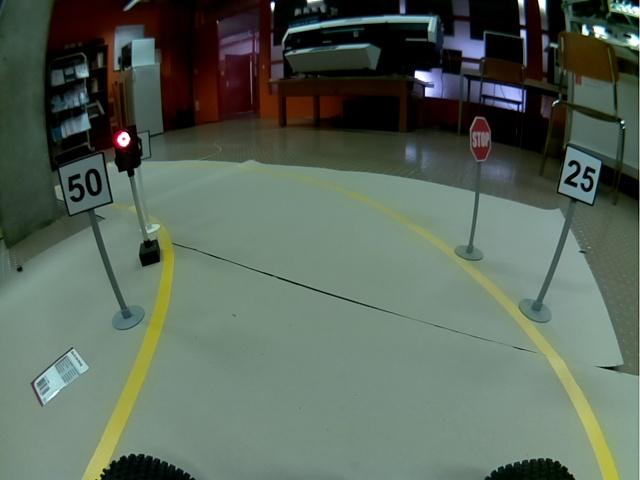speed25: (557, 143, 603, 206)
speed50: (57, 151, 113, 217)
stop: (469, 116, 492, 162)
trafficLightRed: (114, 124, 141, 173)
